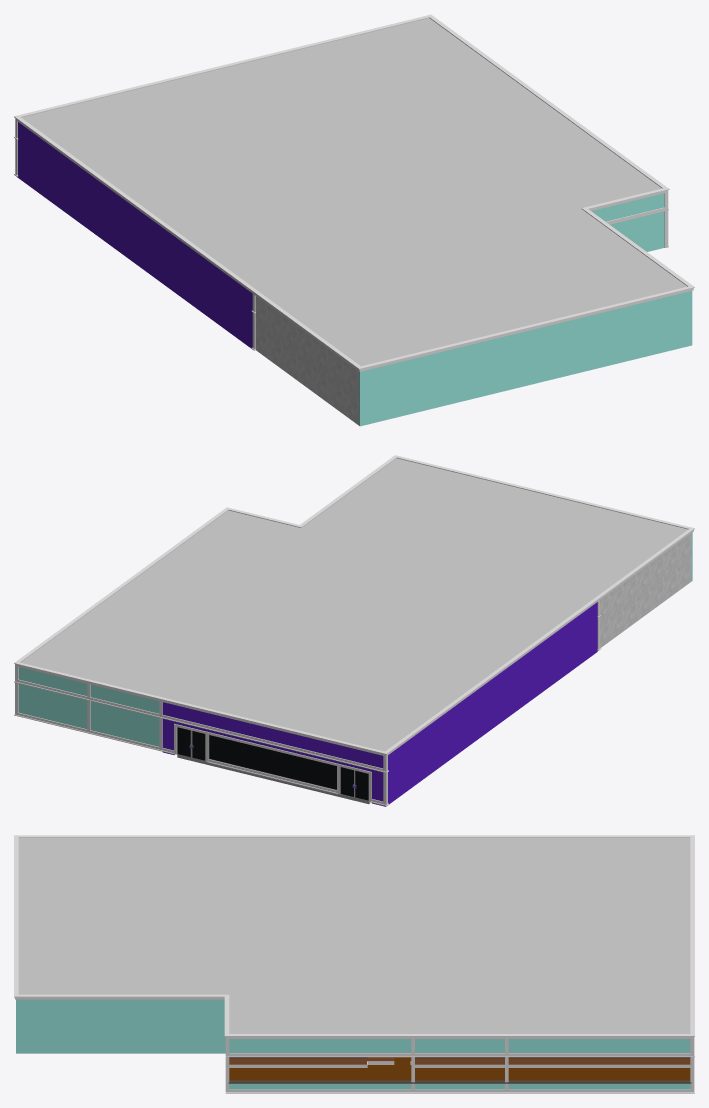
File: Carnival Main.fbx
3 renders of one model, top to bottom at view 1: azimuth 30°, elevation 25°; view 2: azimuth 150°, elevation 25°; view 3: azimuth 270°, elevation 25°, orthographic. The views are drawn at different scales.
Visible parts, largest first — view 1: Part54, Part56, Part57, Part65, Union5, Part53, Part59, Part67; view 2: Part54, Part56, Union5, Part65, Part59, Part30, Part53, Part4, Part11, Part3, Part5; view 3: Part54, Part56, Union5, Part1.001, Part62, Part58, Union9, Part61, Part27, Part52, Union10, Union11 (+2 smaller).
Part boxes in pixels (left/top/right/bottom): Part54: left=22, top=18, right=661, bottom=288; Part56: left=255, top=209, right=686, bottom=366; Part57: left=358, top=291, right=690, bottom=426; Part65: left=17, top=139, right=252, bottom=349; Union5: left=14, top=14, right=694, bottom=371; Part53: left=255, top=296, right=358, bottom=424; Part59: left=18, top=122, right=252, bottom=309; Part67: left=591, top=193, right=664, bottom=251; Part54: left=21, top=510, right=592, bottom=751; Part56: left=301, top=458, right=687, bottom=599; Union5: left=14, top=455, right=694, bottom=805; Part65: left=372, top=617, right=597, bottom=806; Part59: left=162, top=602, right=597, bottom=769; Part30: left=18, top=667, right=159, bottom=746; Part53: left=600, top=533, right=691, bottom=647; Part4: left=209, top=735, right=336, bottom=789; Part11: left=209, top=735, right=336, bottom=789; Part3: left=177, top=754, right=370, bottom=804; Part5: left=174, top=721, right=371, bottom=771; Part54: left=229, top=838, right=690, bottom=1033; Part56: left=18, top=838, right=229, bottom=994; Union5: left=14, top=835, right=694, bottom=1093; Part1.001: left=16, top=999, right=225, bottom=1053; Part62: left=229, top=1039, right=690, bottom=1052; Part58: left=229, top=1057, right=690, bottom=1080; Union9: left=228, top=1080, right=691, bottom=1083; Part61: left=508, top=1058, right=690, bottom=1064; Part27: left=229, top=1083, right=411, bottom=1089; Part52: left=508, top=1083, right=690, bottom=1089; Union10: left=229, top=1057, right=411, bottom=1064; Union11: left=229, top=1061, right=411, bottom=1067.
Size of the model in its own units: 12675 by 1800 by 18175.
